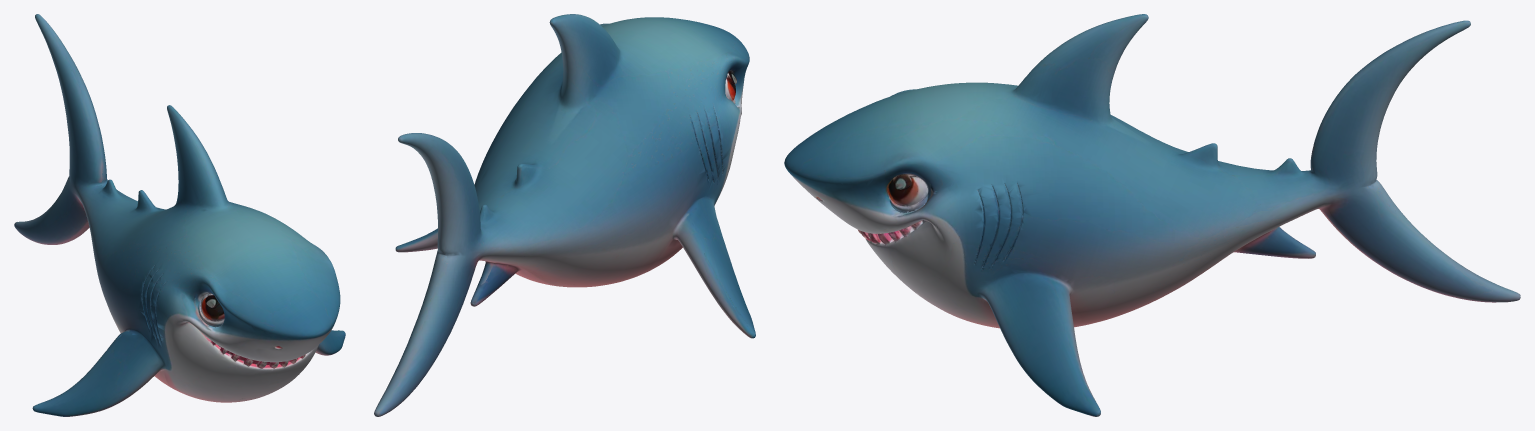
File: tiburon.glb
The picture shows the model from 3 angles, left to right: view 1: azimuth 30°, elevation 25°; view 2: azimuth 150°, elevation 25°; view 3: azimuth 270°, elevation 25°; orthographic projection. The views are drawn at different scales.
Visible parts, largest first — view 1: texture_pbr_v128; view 2: texture_pbr_v128; view 3: texture_pbr_v128.
Part boxes in pixels (bbox=[...]): texture_pbr_v128: bbox=[14, 14, 345, 416]; texture_pbr_v128: bbox=[374, 14, 755, 416]; texture_pbr_v128: bbox=[784, 14, 1520, 416].
Bounding box in the file's own units: 0.6729 × 0.5247 × 1.12.
Materials: 1 (1 with a texture image).
